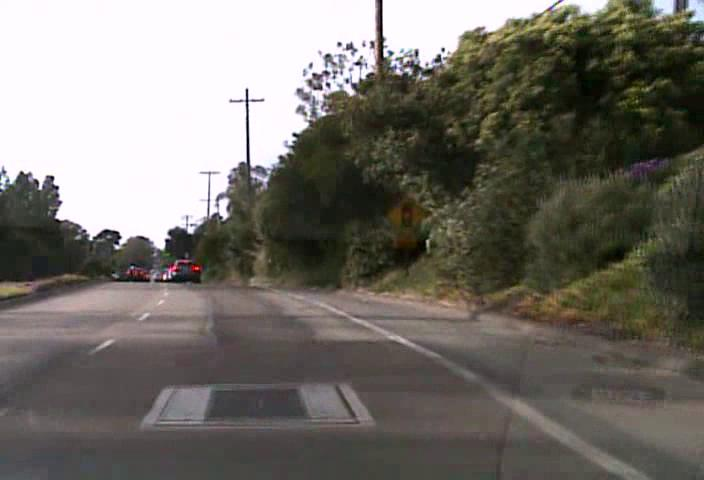signalAhead: (384, 193, 429, 237)
